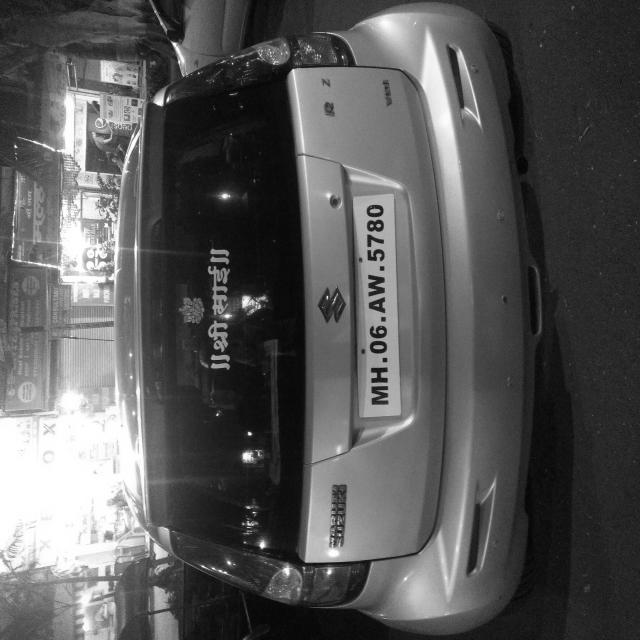car: (0, 145, 480, 640)
license-plate: (165, 476, 342, 533)
